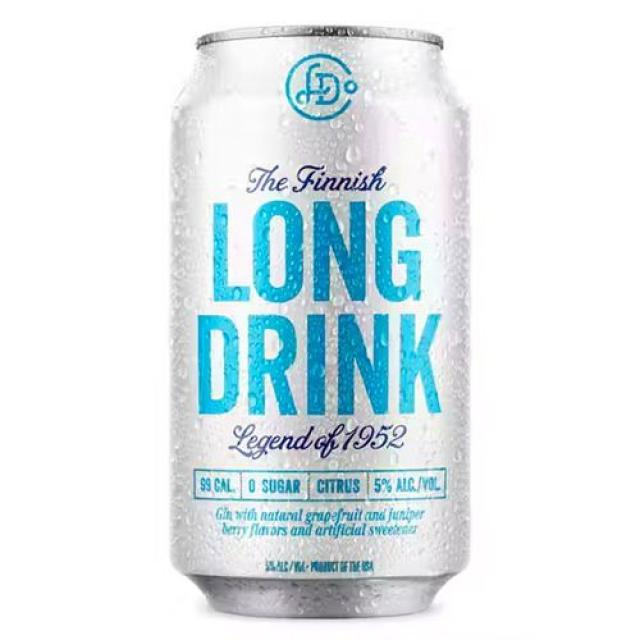Cans: (166, 22, 474, 618)
